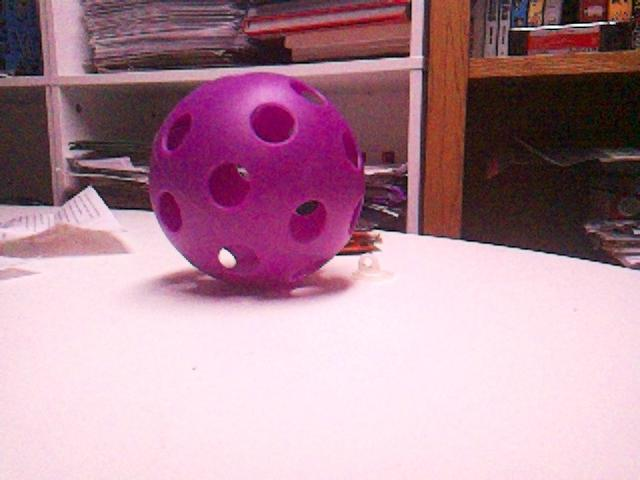Purple: (142, 73, 366, 287)
